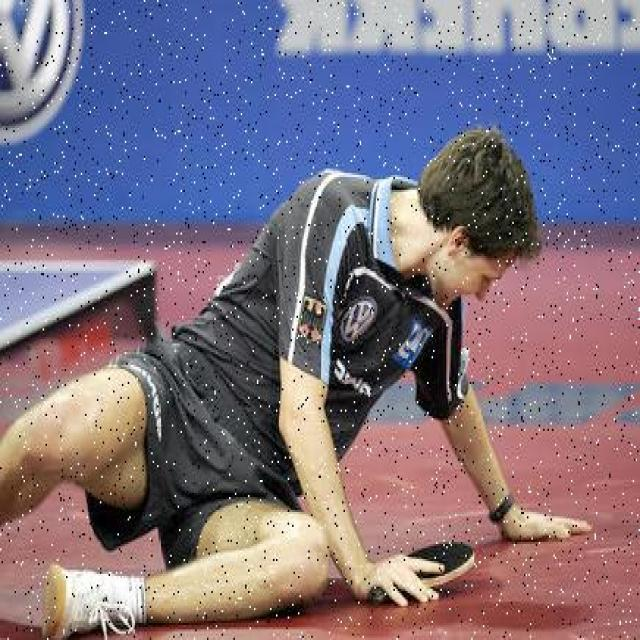fall: (26, 137, 528, 625)
